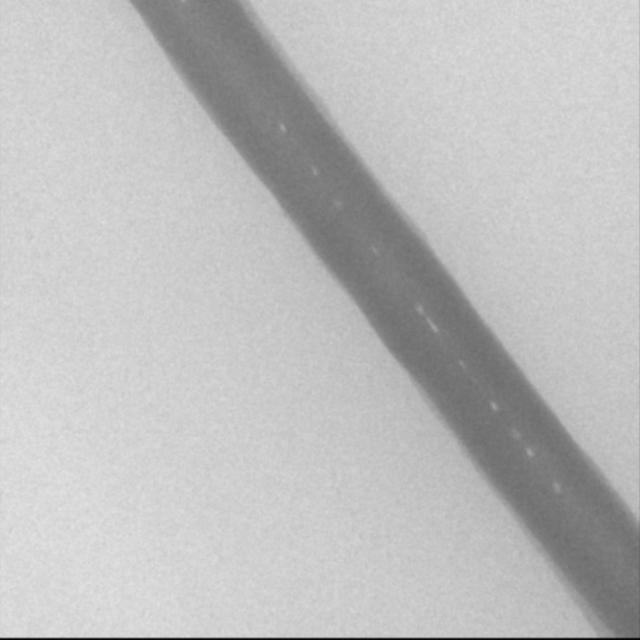air hole: (550, 479, 563, 498), (488, 398, 499, 414), (524, 445, 535, 460), (277, 121, 288, 135), (414, 304, 424, 318), (310, 165, 319, 179)
